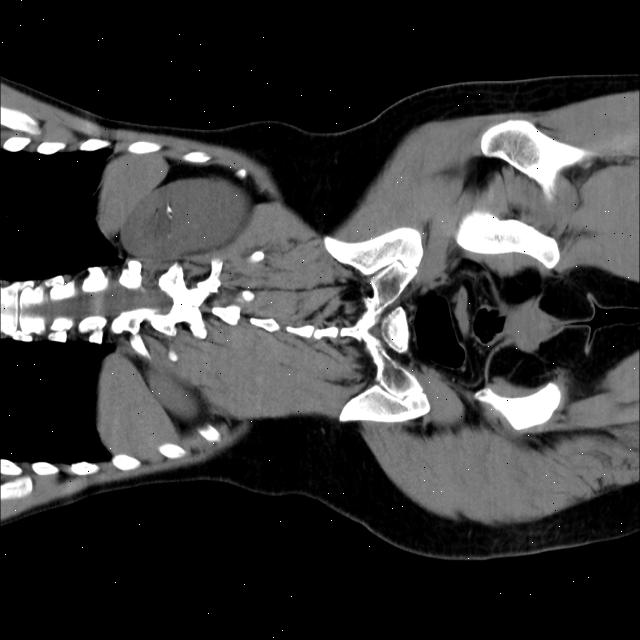kidneystone: (169, 348, 178, 361), (165, 208, 169, 217)
